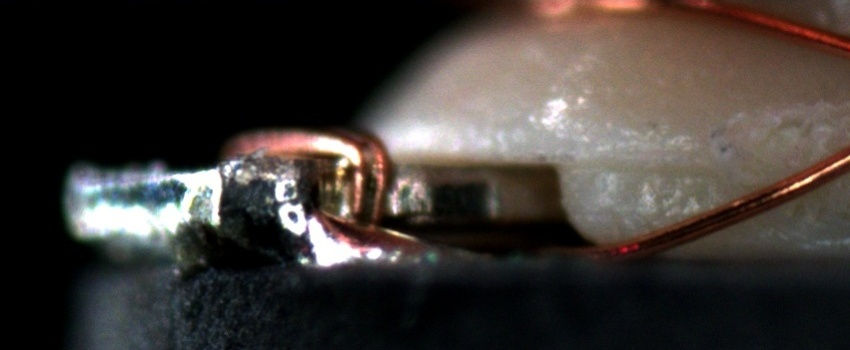DL: (565, 137, 718, 201)
TE: (219, 117, 394, 231)
